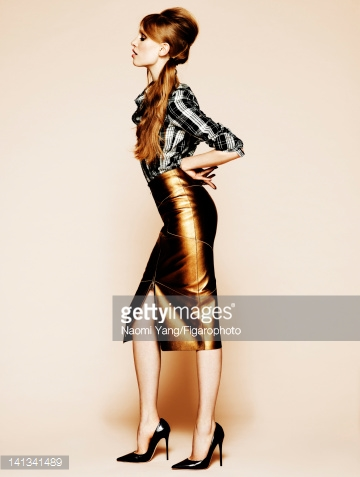em pe: (99, 0, 248, 477)
